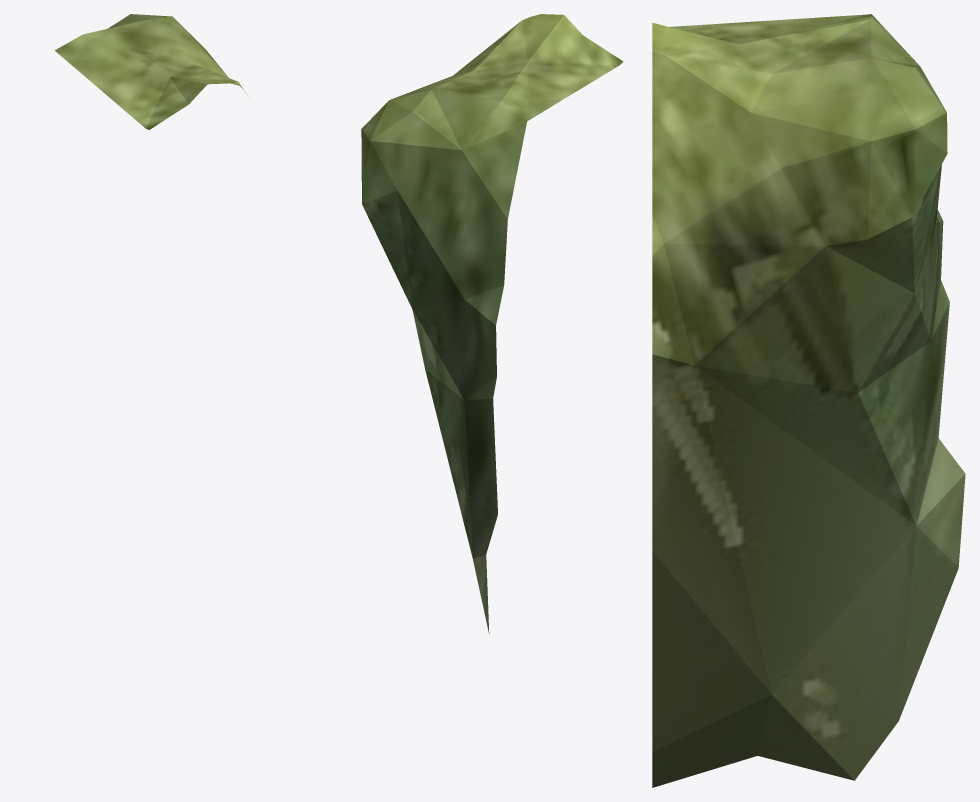
3 renders of one model, left to right at view 1: azimuth 30°, elevation 25°; view 2: azimuth 150°, elevation 25°; view 3: azimuth 270°, elevation 25°, orthographic. The views are drawn at different scales.
Bounding box in the file's own units: 0.4365 × 1.57 × 0.5563.
Materials: 1 (1 with a texture image).
